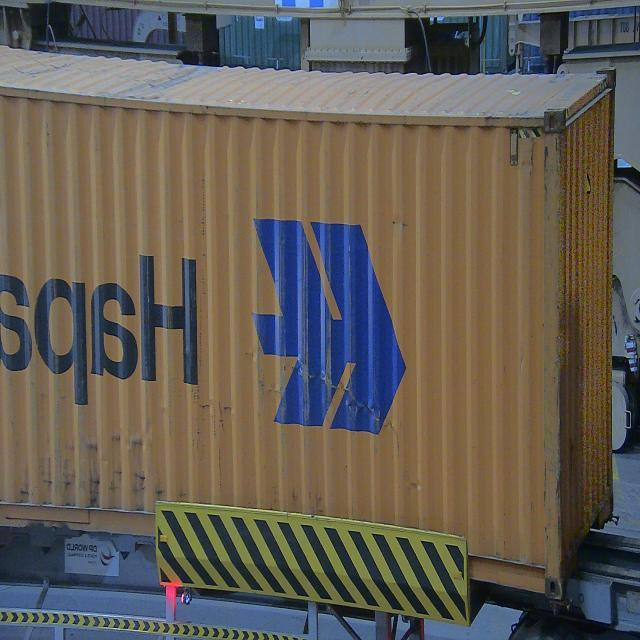hole: (581, 164, 596, 199)
